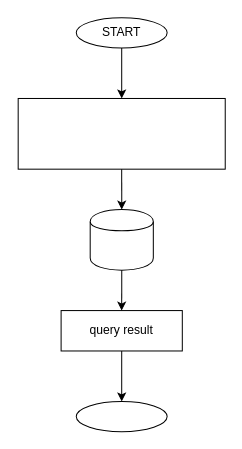
The diagram is 242 pixels wide and 449 high, and some of its shapes have lost their labels. The box of each missing label's shape, as (x1, y1, x2, y2) in pixels:
END: (75, 400, 167, 432)
Execute the query to get info about tables and its columns: (17, 97, 225, 169)
